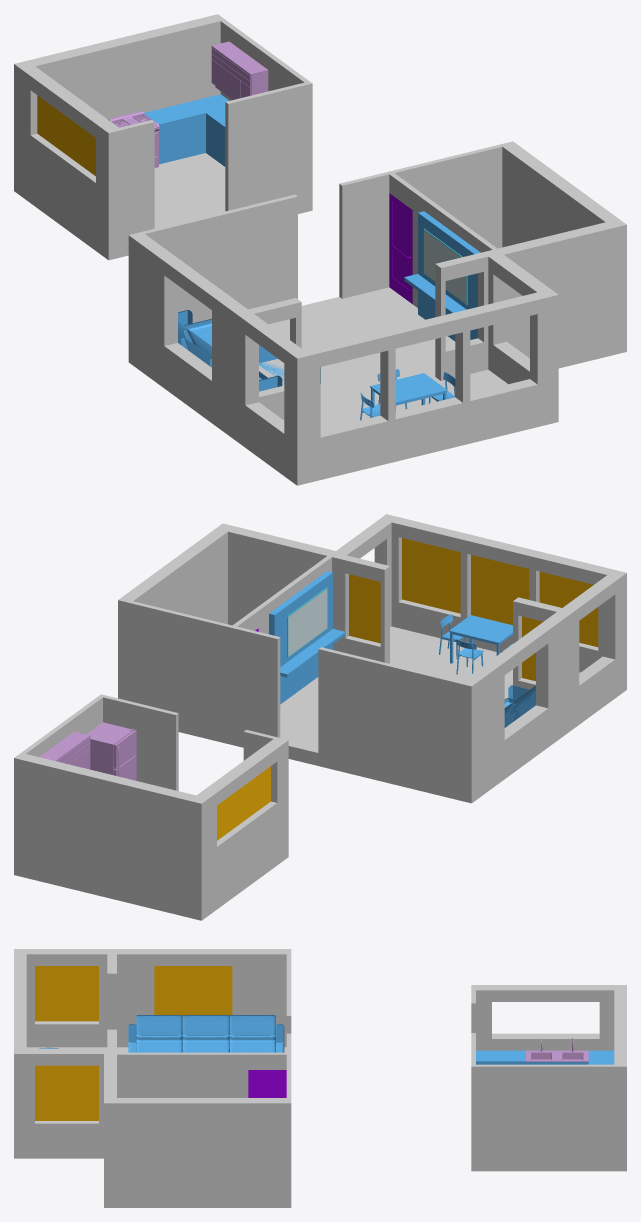
The picture shows the model from 3 angles, top to bottom: view 1: azimuth 30°, elevation 25°; view 2: azimuth 150°, elevation 25°; view 3: azimuth 270°, elevation 25°; orthographic projection. The views are drawn at different scales.
Size of the model in its own units: 8.68 by 2.74 by 14.57.
